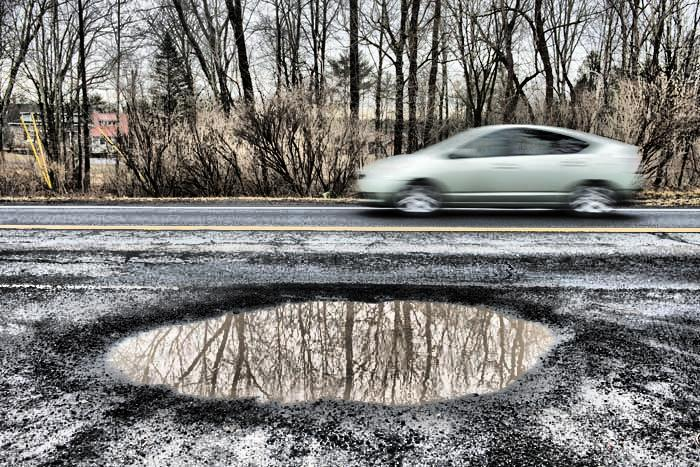pothole: (110, 288, 569, 415)
